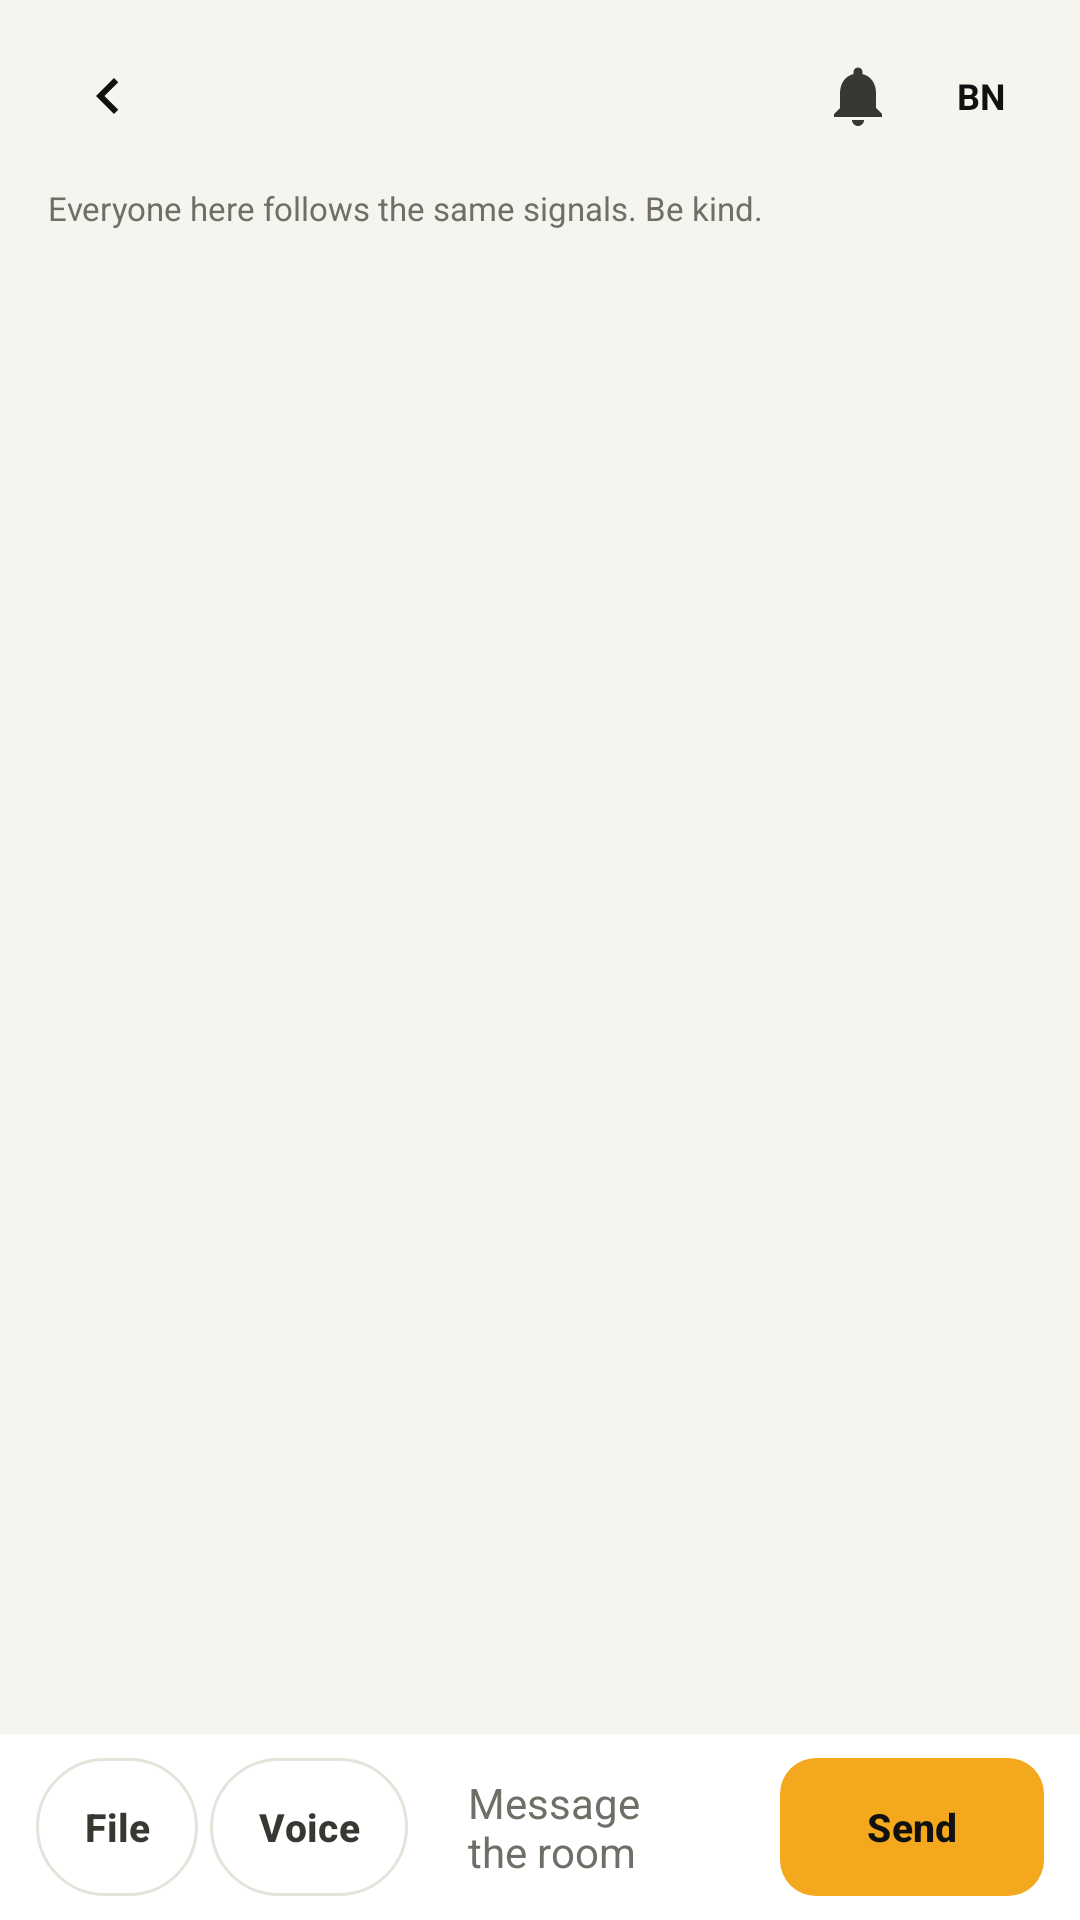

Named icons in this screenshot (1080px x 1920px) and their bounding boxes, bbox=(x1, y1, x2, y2):
Back: bbox=(96, 78, 118, 114)
Notifications: bbox=(834, 67, 882, 126)
